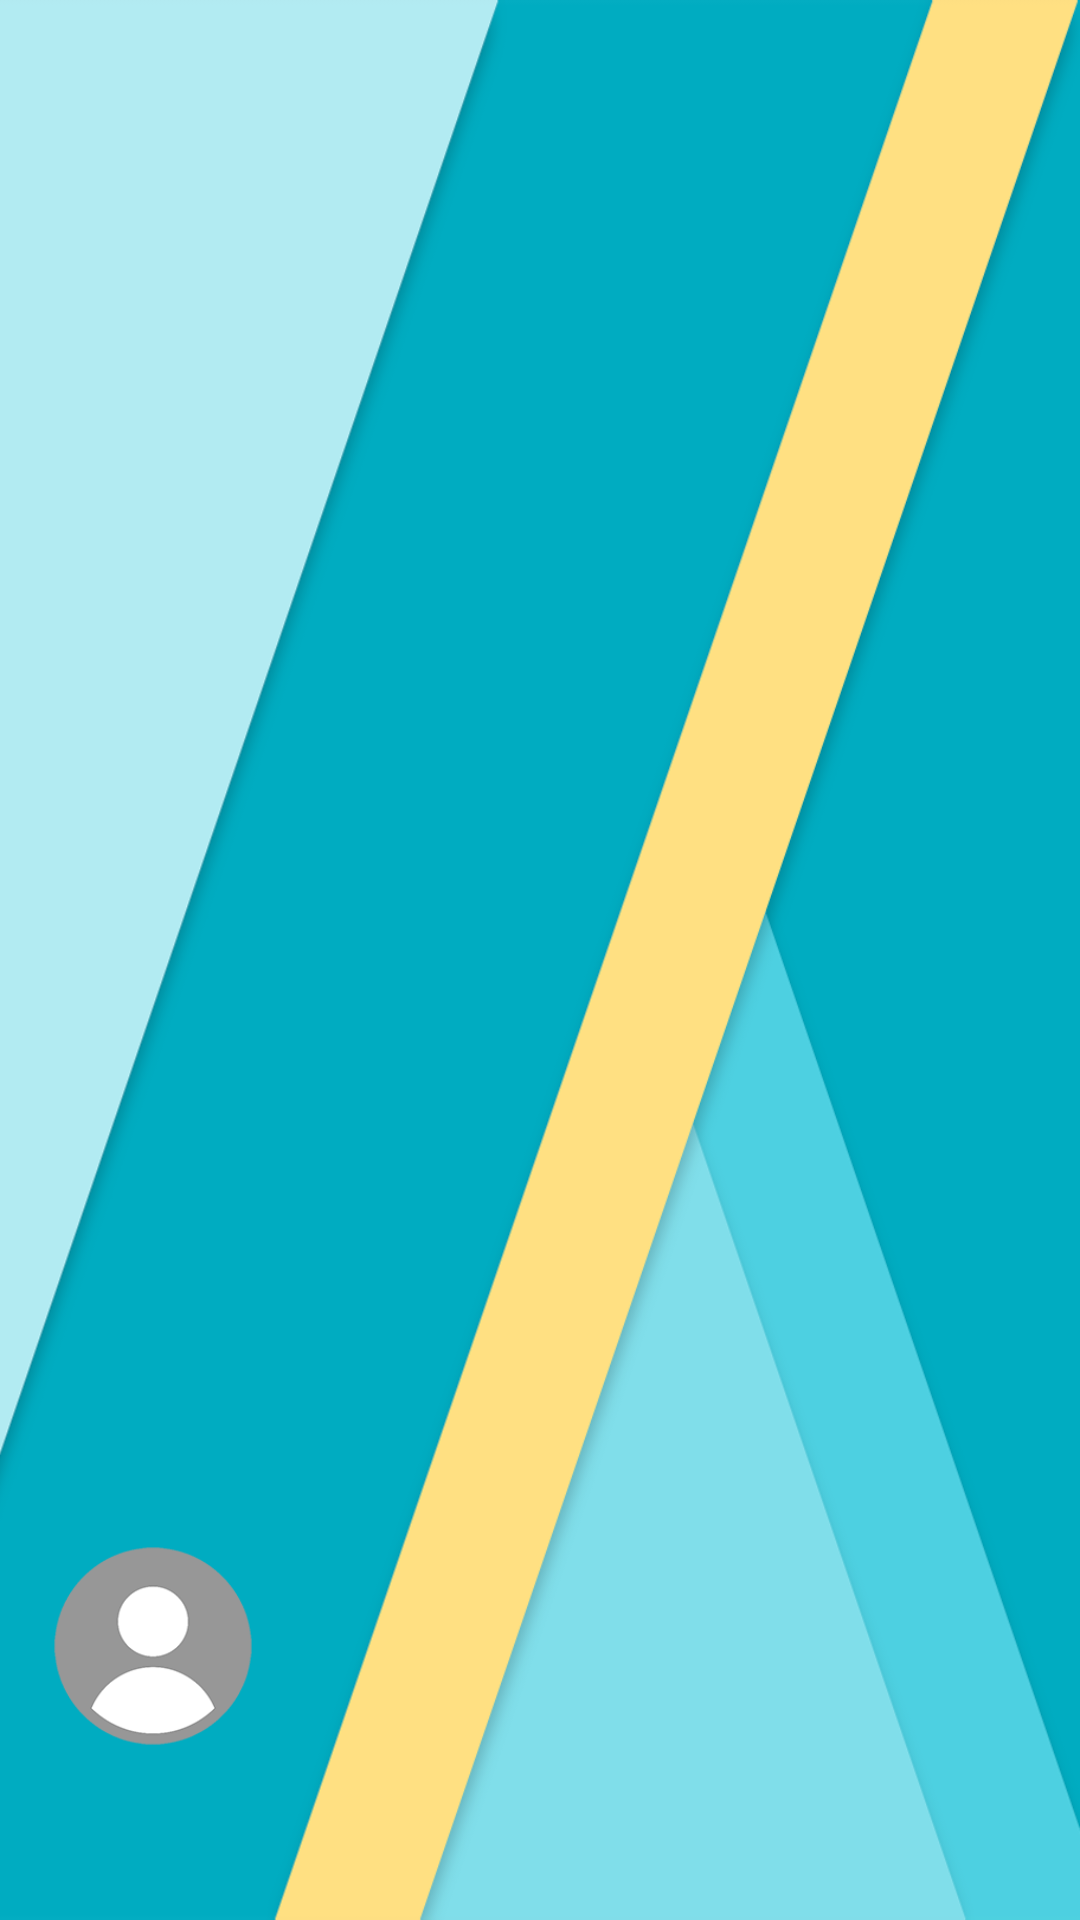

Screen size 1080px×1920px. Icon name, then its box in pixels as (x1, y1, x2, y2):
user: (54, 1547, 252, 1745)
